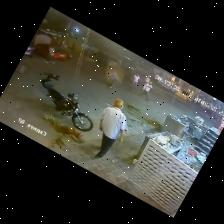person: (95, 99, 126, 158), (139, 82, 151, 100), (108, 72, 119, 87), (45, 45, 53, 63), (132, 75, 138, 85), (144, 76, 149, 83)
